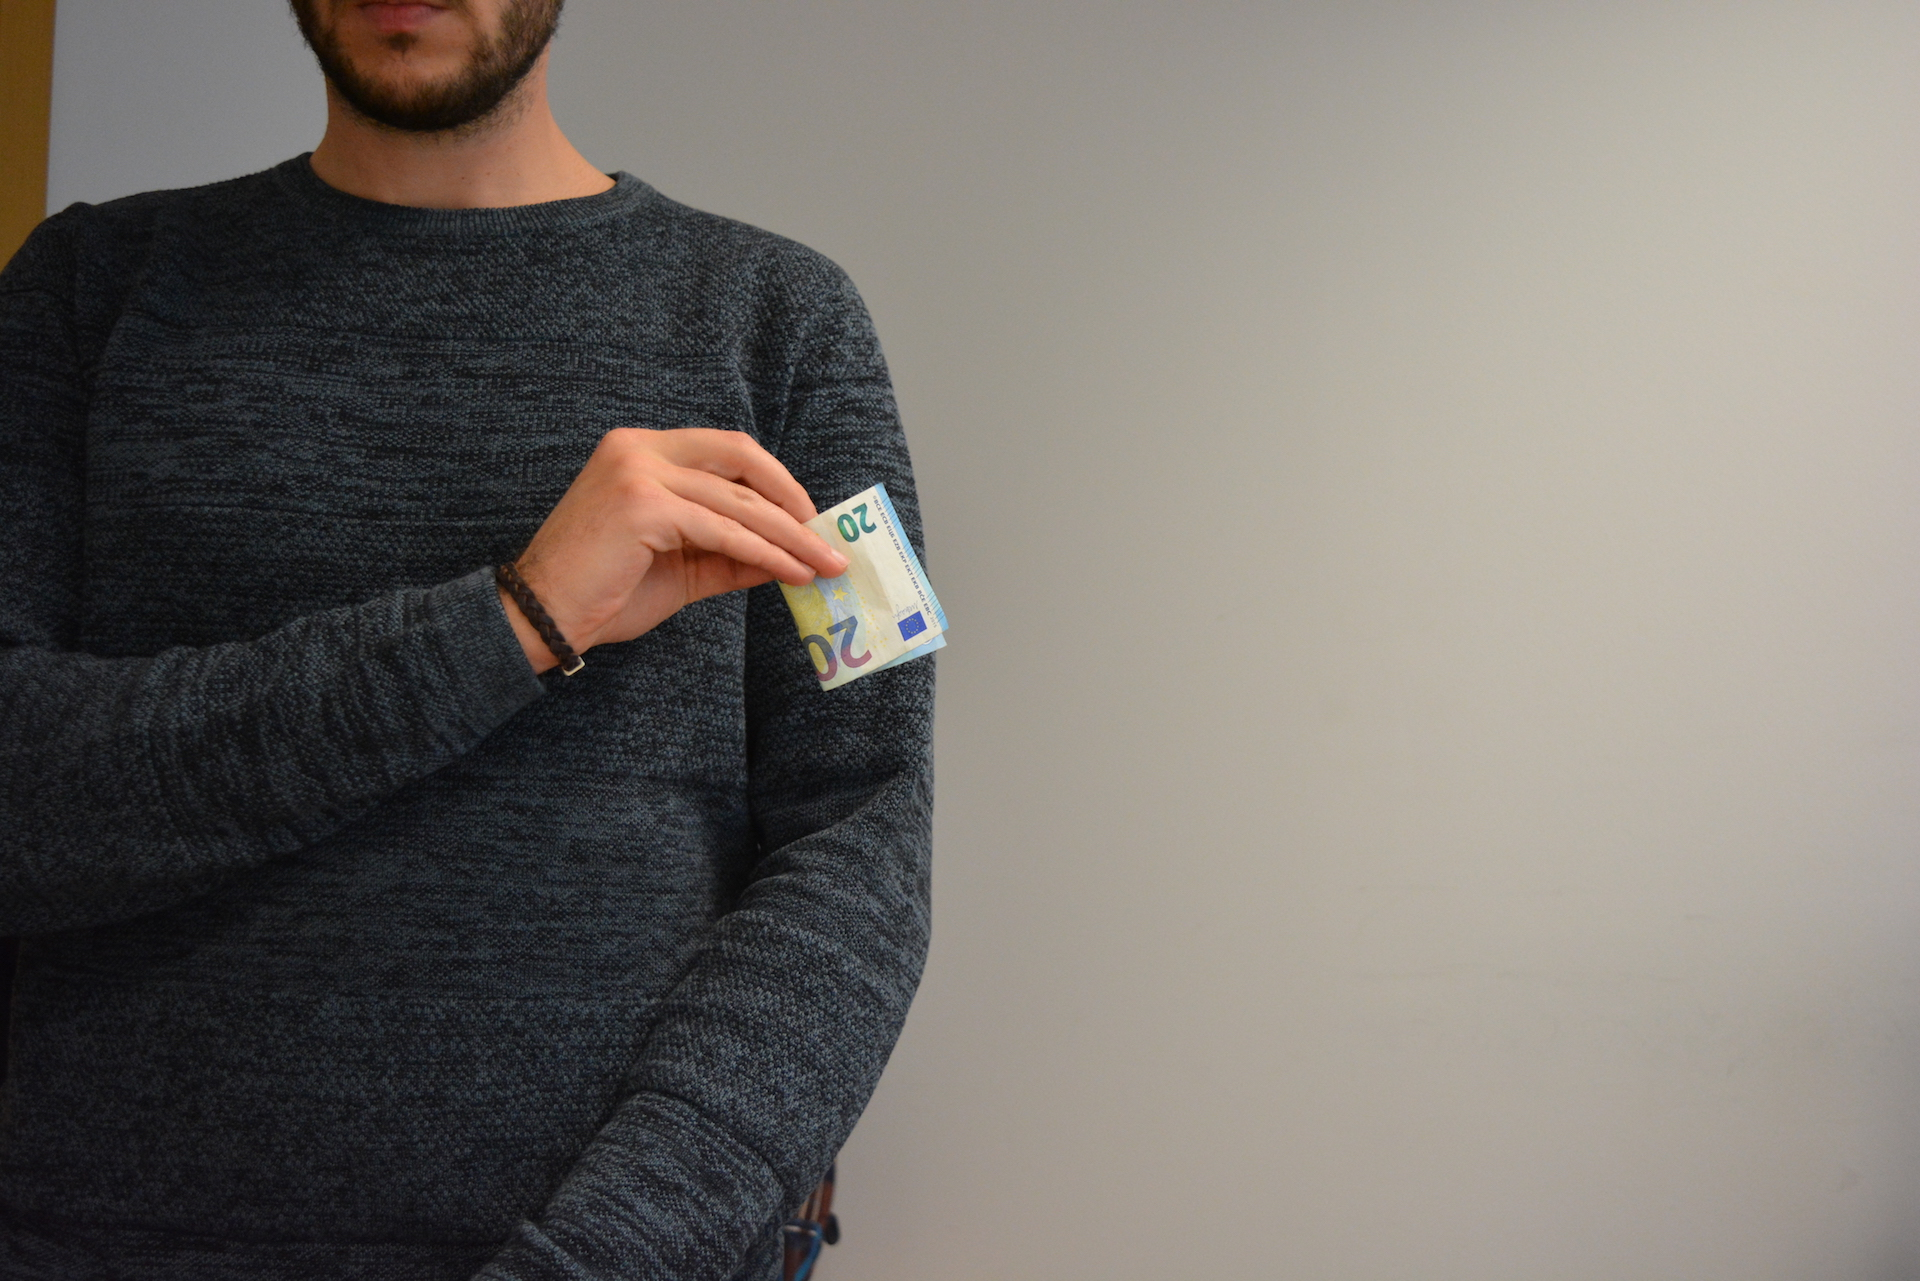billete: (775, 480, 954, 696)
